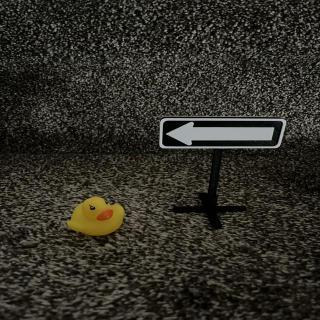duck_regular: (68, 198, 127, 238)
sign_oneway_left: (160, 118, 288, 155)
